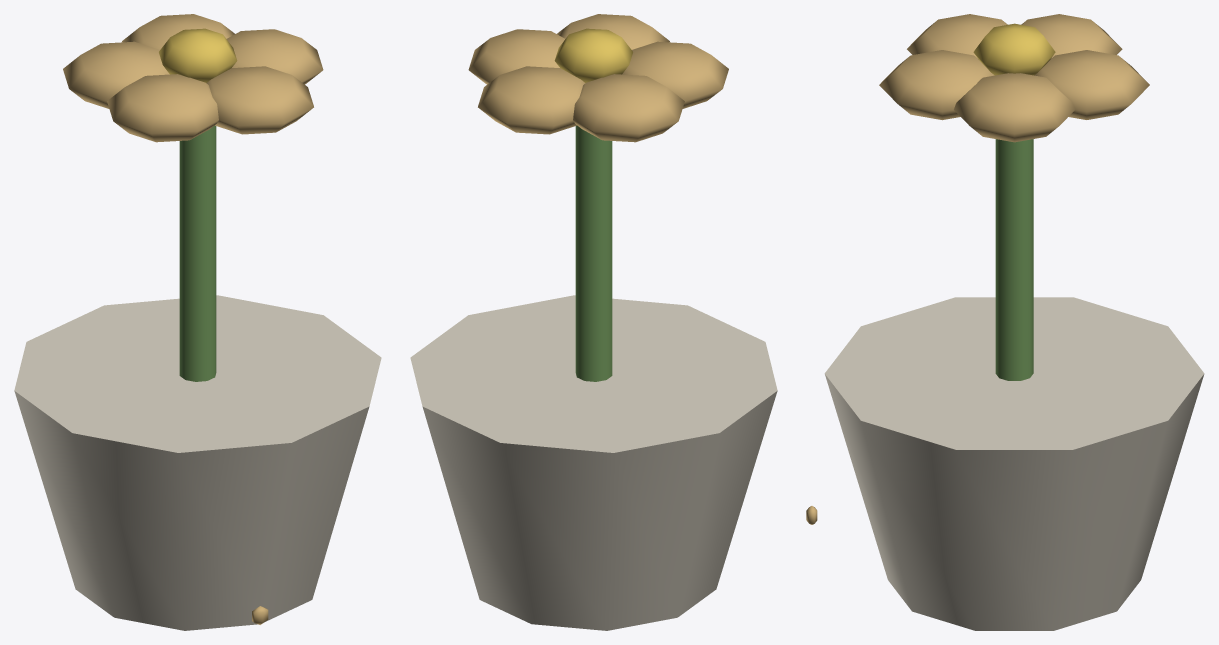
The picture shows the model from 3 angles, left to right: view 1: azimuth 30°, elevation 25°; view 2: azimuth 150°, elevation 25°; view 3: azimuth 270°, elevation 25°; orthographic projection.
Parts seen in each view (by area): view 1: g_s54; view 2: g_s54; view 3: g_s54.
Part boxes in pixels (left/top/right/bottom): g_s54: left=14, top=14, right=381, bottom=630; g_s54: left=410, top=14, right=777, bottom=630; g_s54: left=806, top=14, right=1204, bottom=630.
Size of the model in its own units: 0.2853 by 0.48 by 0.3143.
